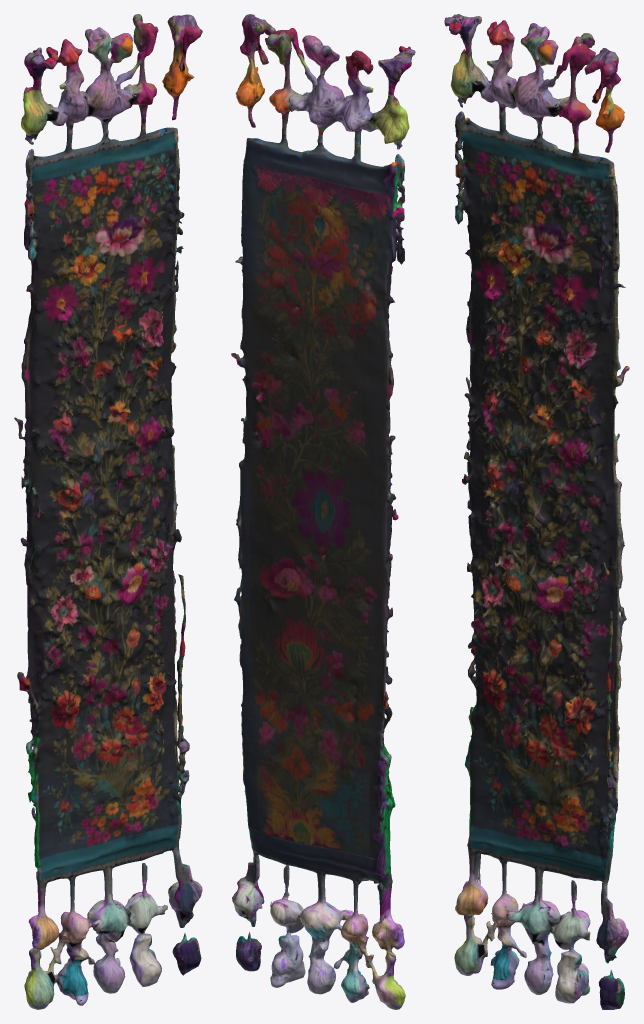
The model's file is textil.glb.
3 views of the same model, side by side, from view 1: azimuth 30°, elevation 25°; view 2: azimuth 150°, elevation 25°; view 3: azimuth 330°, elevation 25° (orthographic).
Bounding box in the file's own units: 0.3794 × 1.99 × 0.1113.
Materials: 1 (1 with a texture image).
